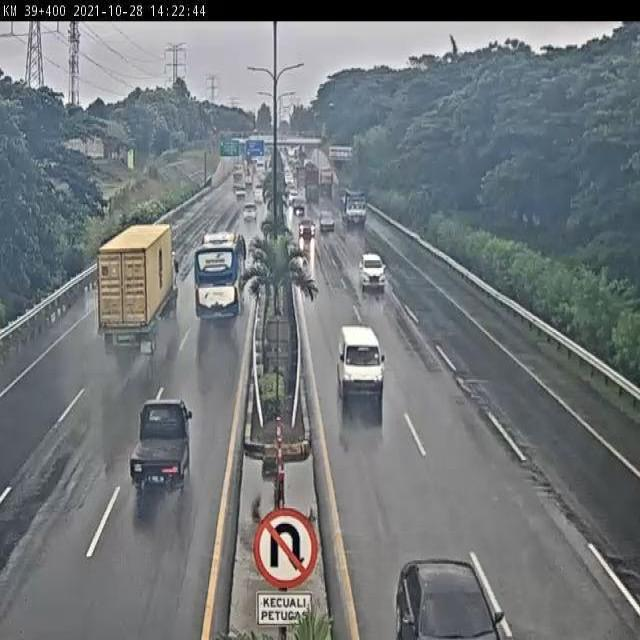car: (373, 496, 478, 636), (125, 393, 195, 500), (336, 325, 387, 408), (355, 249, 392, 295), (297, 217, 317, 240), (241, 204, 258, 229), (318, 211, 337, 233), (251, 188, 267, 207), (292, 198, 307, 218)
truck: (90, 221, 181, 359), (189, 227, 259, 327), (337, 188, 366, 227), (304, 173, 325, 204)
